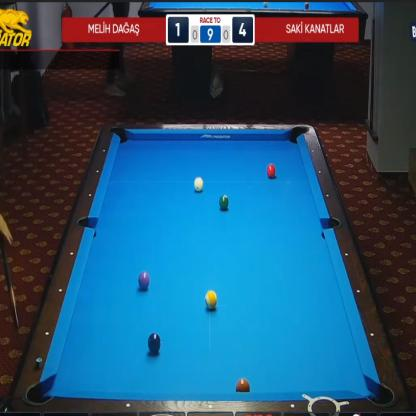Ball: (148, 332, 161, 353), (205, 290, 217, 310), (138, 271, 150, 290), (236, 378, 250, 392), (194, 176, 204, 192), (219, 195, 229, 210), (266, 164, 276, 178)
